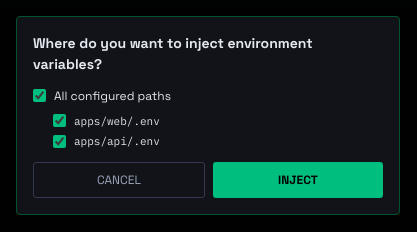
InjectTargetModal › disables inject when nothing is selected
The width and height of the screenshot is (417, 232).
Click the text "All configured paths" at [102, 96], box [33,88,171,104]
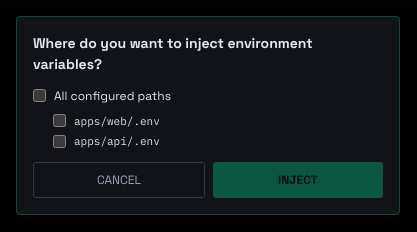
Result: the button "INJECT" is disabled at [213,162,383,198]
